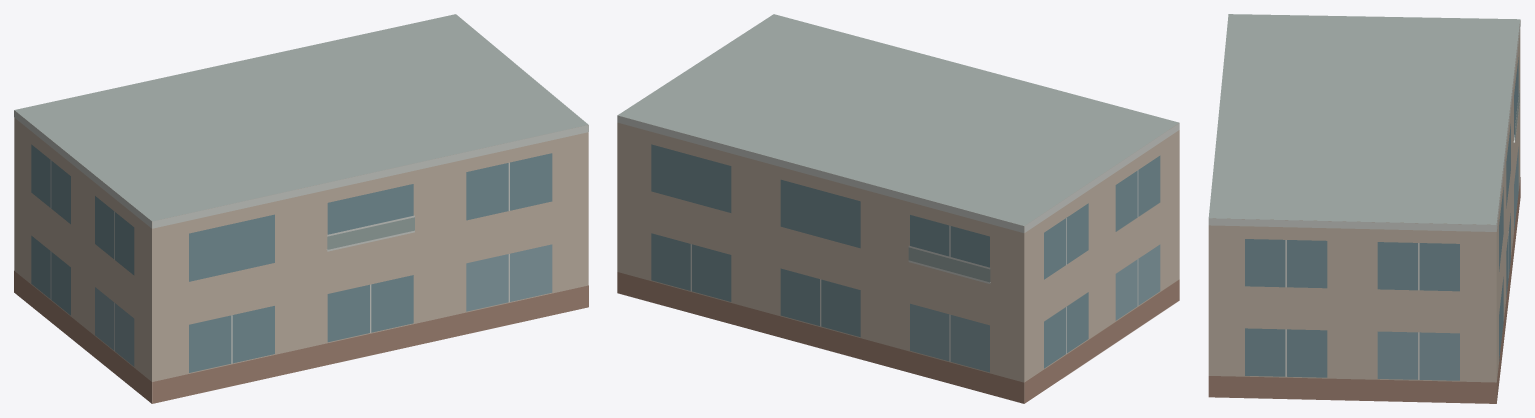
File: survey-upis-32650007.glb
The picture shows the model from 3 angles, left to right: view 1: azimuth 30°, elevation 25°; view 2: azimuth 150°, elevation 25°; view 3: azimuth 270°, elevation 25°; orthographic projection. The views are drawn at different scales.
Visible parts, largest first — view 1: survey-upis-32650007.tmp; view 2: survey-upis-32650007.tmp; view 3: survey-upis-32650007.tmp.
Boxes of the visible parts, x1,y1,x2,y2 form: survey-upis-32650007.tmp: [14, 14, 588, 403]; survey-upis-32650007.tmp: [617, 14, 1179, 403]; survey-upis-32650007.tmp: [1208, 14, 1520, 403].
Bounding box in the file's own units: 15.43 × 6.1 × 9.64.
